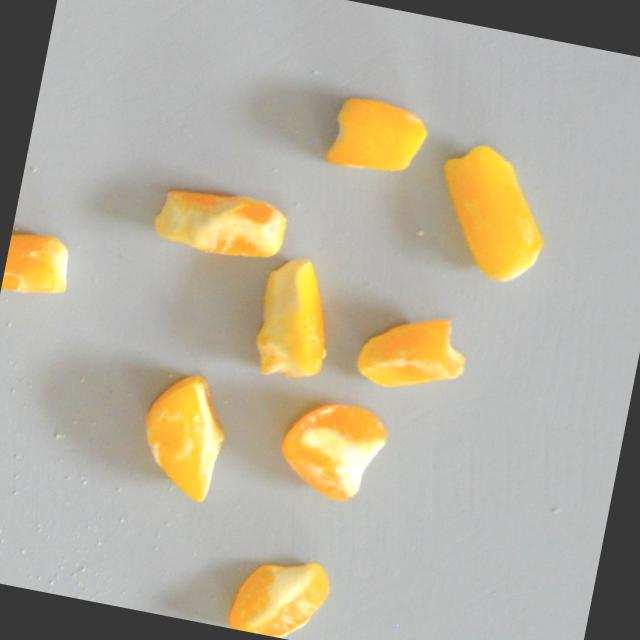dañado: (123, 359, 242, 514), (240, 247, 347, 394), (269, 387, 396, 510), (142, 175, 296, 276), (349, 298, 475, 406), (317, 88, 435, 188), (223, 541, 342, 640), (0, 220, 82, 312)
pelicula: (420, 133, 563, 294)
